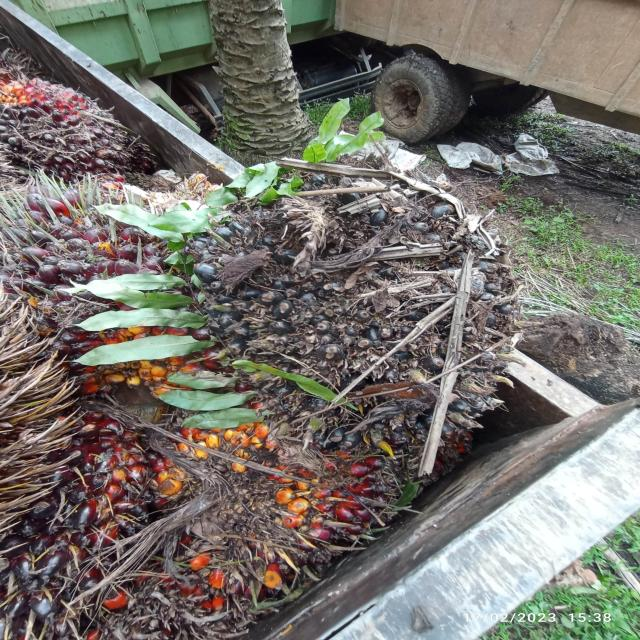fraksi 00: (143, 120, 545, 484)
fraksi 1: (105, 375, 422, 592), (0, 174, 201, 362), (0, 69, 129, 189)
